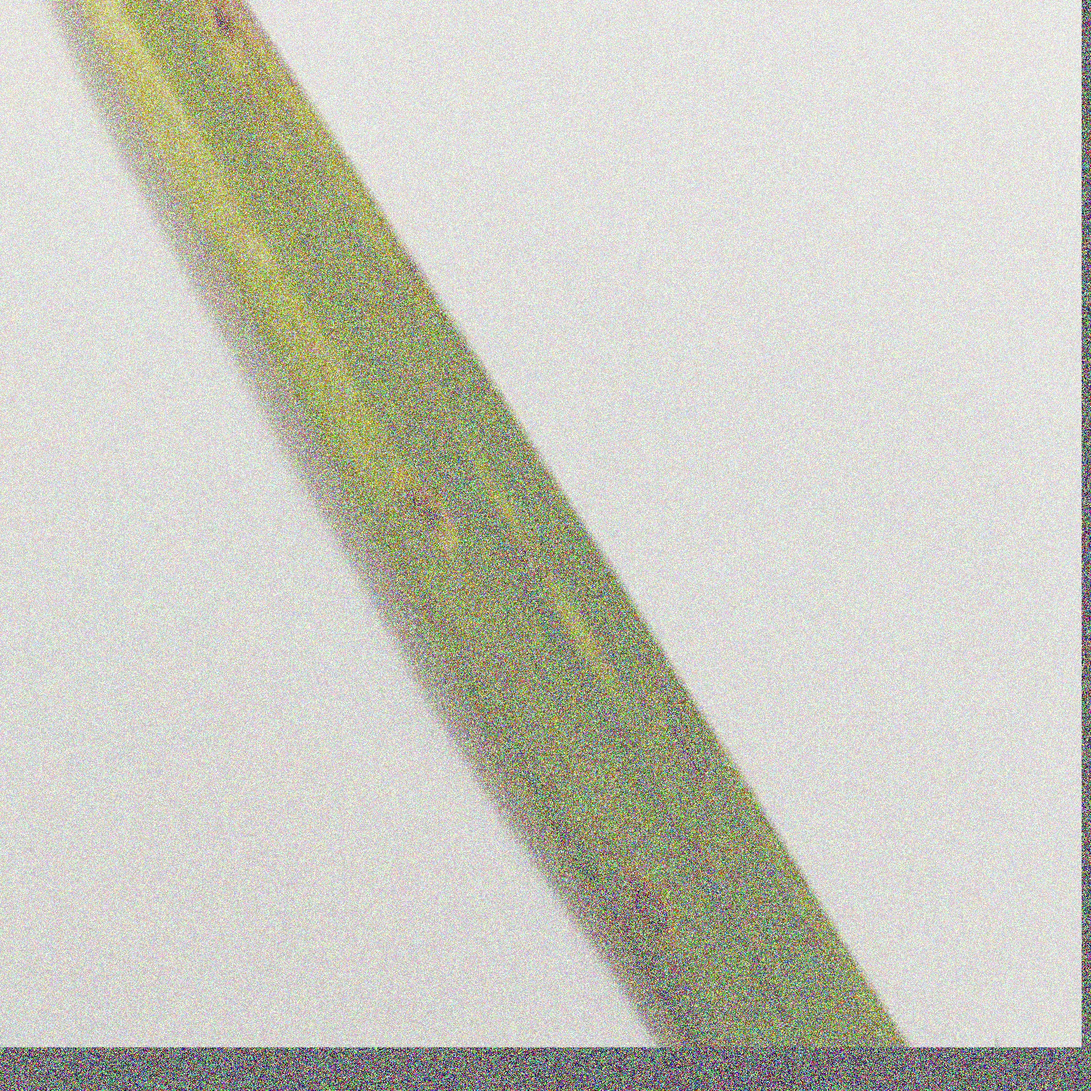Brown_Spot: (617, 843, 686, 953), (399, 458, 461, 559), (206, 0, 257, 44)
